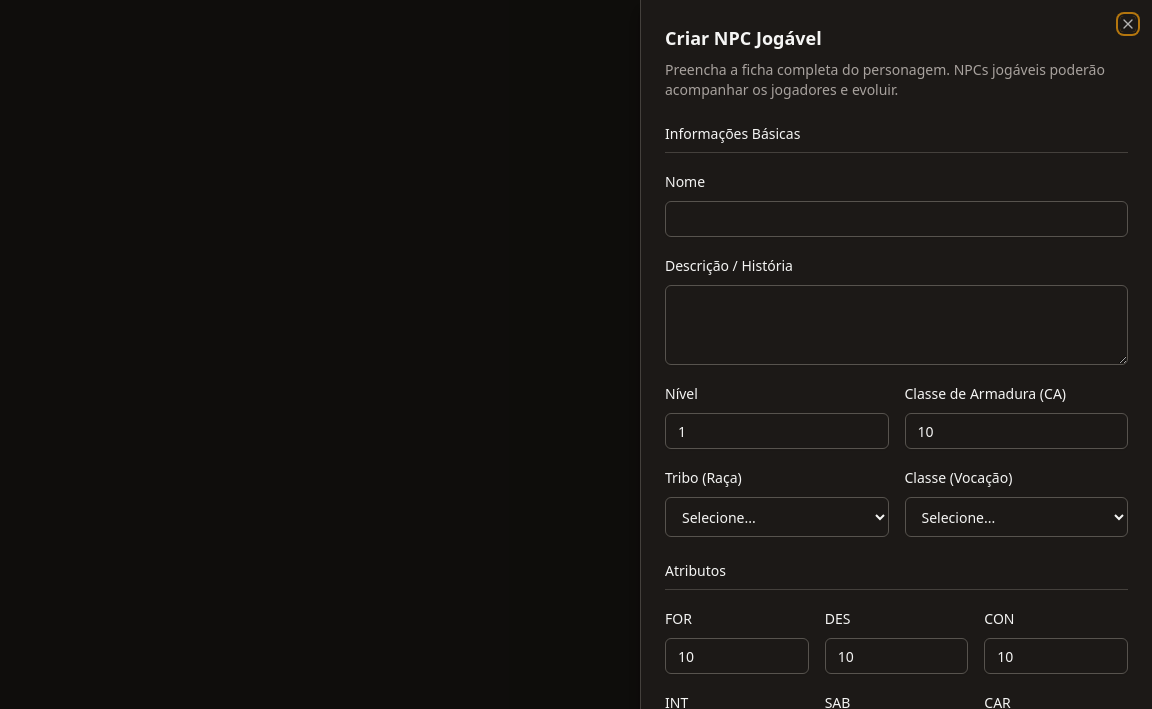
Test: NPCCharacterSheetModal › exige nome de 2 letras, tribo e classe
The width and height of the screenshot is (1152, 709).
Type "Z" into the field at (896, 219), box left=665, top=201, right=1128, bottom=237
(page scrolled)
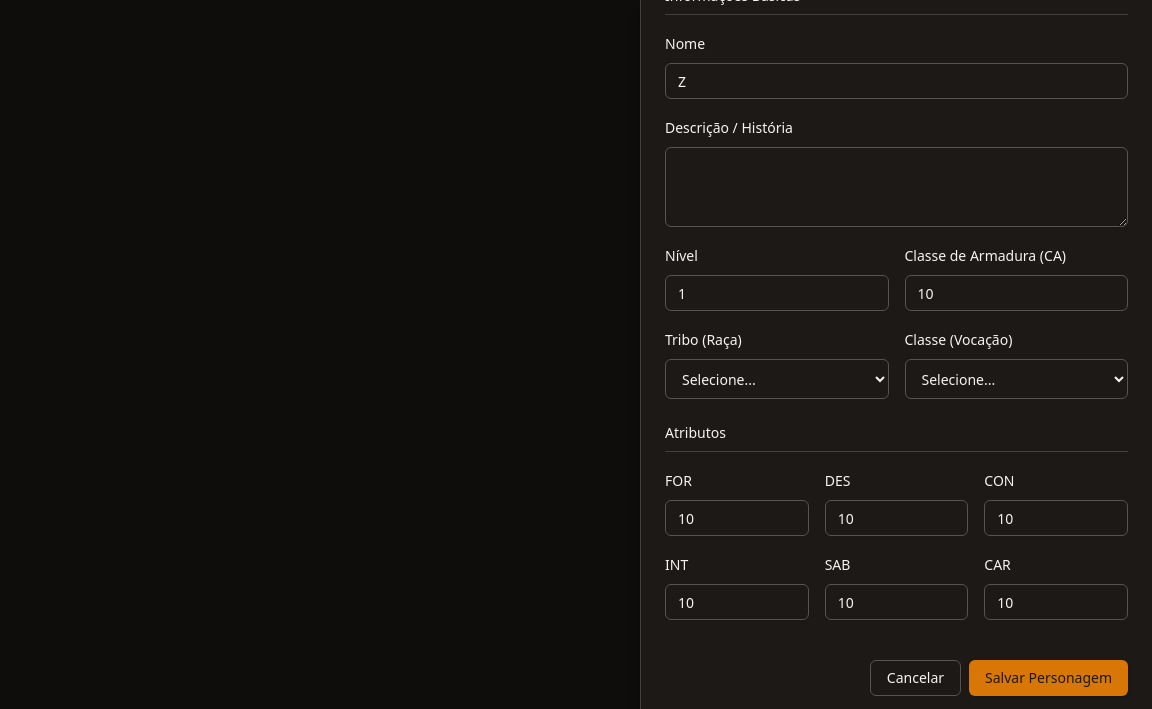
Click the button "Salvar Personagem" at (1048, 678), box left=969, top=660, right=1128, bottom=696
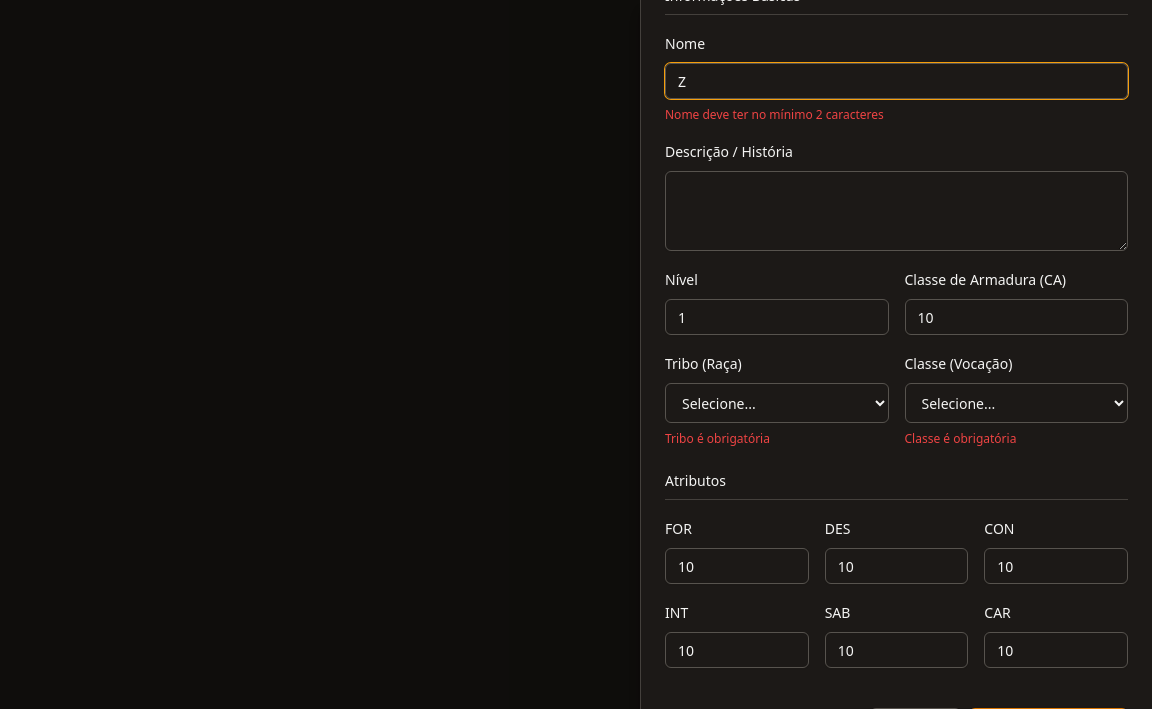
Expected: the text "Nome deve ter no mínimo 2 caracteres" is shown, left=665, top=106, right=884, bottom=123
Expected: the text "Tribo é obrigatória" is shown, left=665, top=430, right=770, bottom=447
Expected: the text "Classe é obrigatória" is shown, left=904, top=430, right=1016, bottom=447
